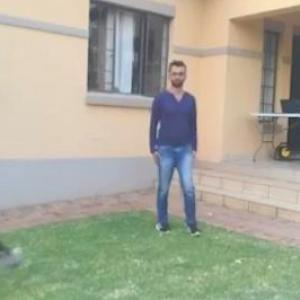follow: (136, 70, 188, 224)
